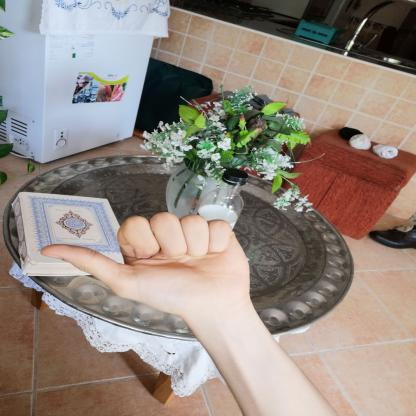DAD: (26, 204, 263, 324)
